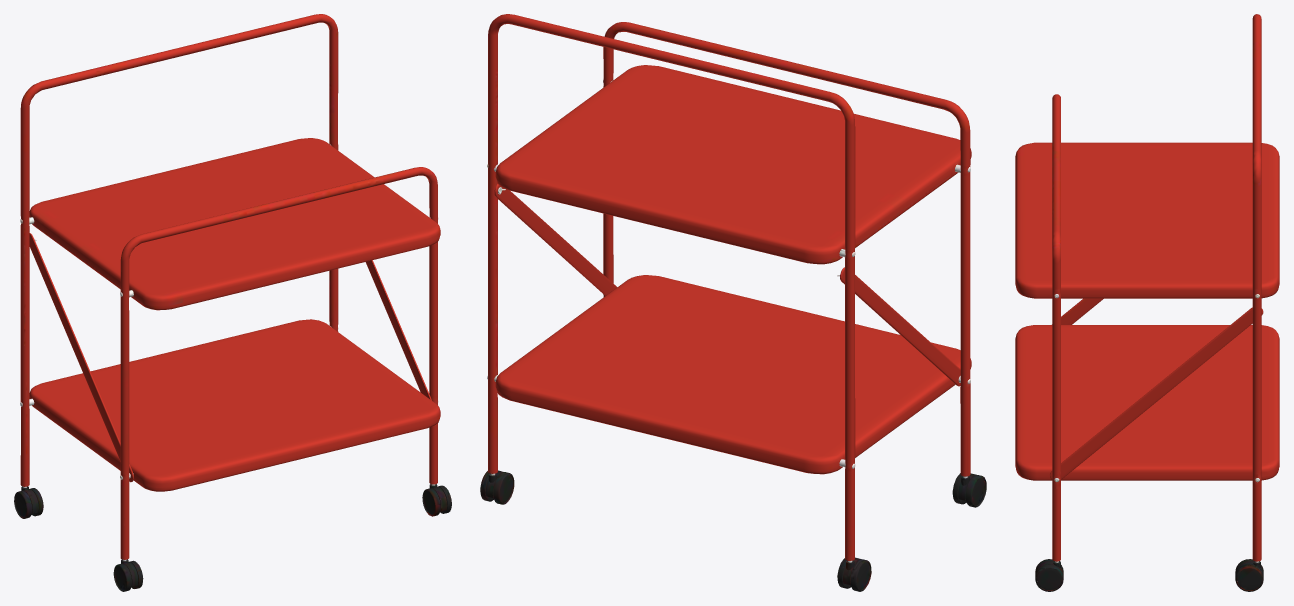
Rendered from sidetable-JÄRLÅSA side table on castors - red (00555274).glb.
3 views of the same model, side by side, from view 1: azimuth 30°, elevation 25°; view 2: azimuth 150°, elevation 25°; view 3: azimuth 270°, elevation 25° (orthographic). The views are drawn at different scales.
Visible parts, largest first — view 1: Mesh_0; view 2: Mesh_0; view 3: Mesh_0.
Boxes of the visible parts, box(x1,y1,x2,y2) form: Mesh_0: box(14, 14, 451, 591); Mesh_0: box(480, 14, 986, 591); Mesh_0: box(1015, 14, 1279, 591).
Bounding box in the file's own units: 0.6454 × 0.81 × 0.4519.
Materials: 1 (1 with a texture image).
